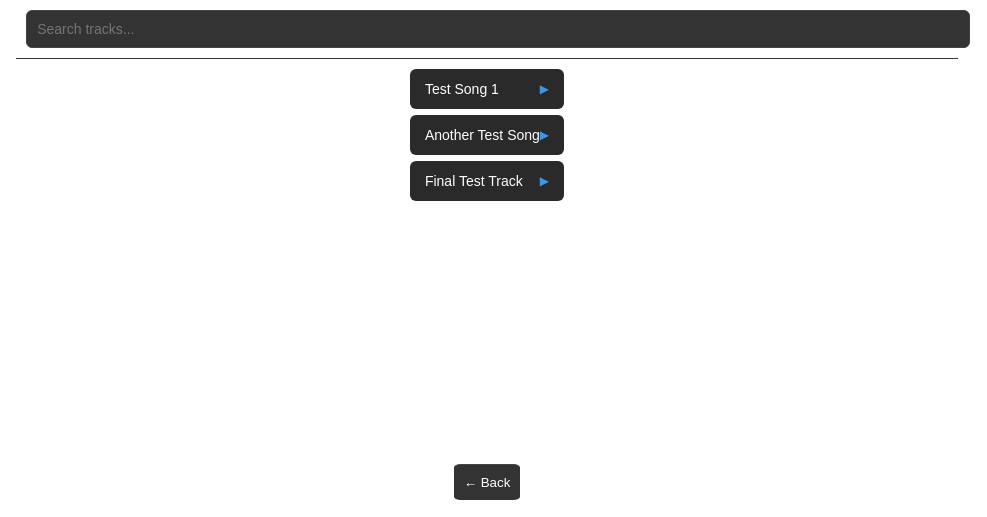
SongLibrary Component › shows no results message when no songs match search
Check: the text "Test Song 1" is shown, box x1=425 y1=81 x2=499 y2=97
Enter search term that won't match any songs
In the field with placeholder "Search tracks...": coordinates (498, 29) x1=26 y1=10 x2=970 y2=48, type "xyz"
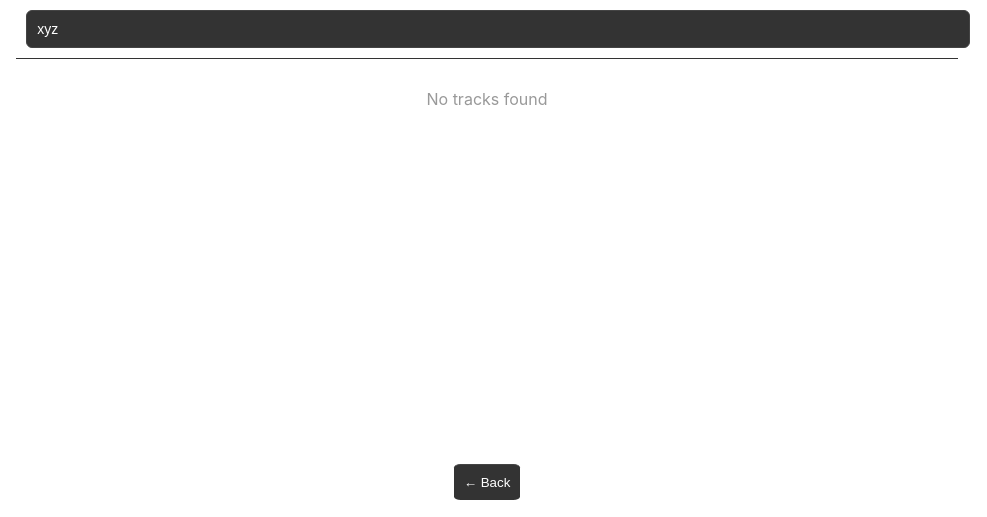
Check: the text "No tracks found" is shown, box x1=426 y1=89 x2=548 y2=109
